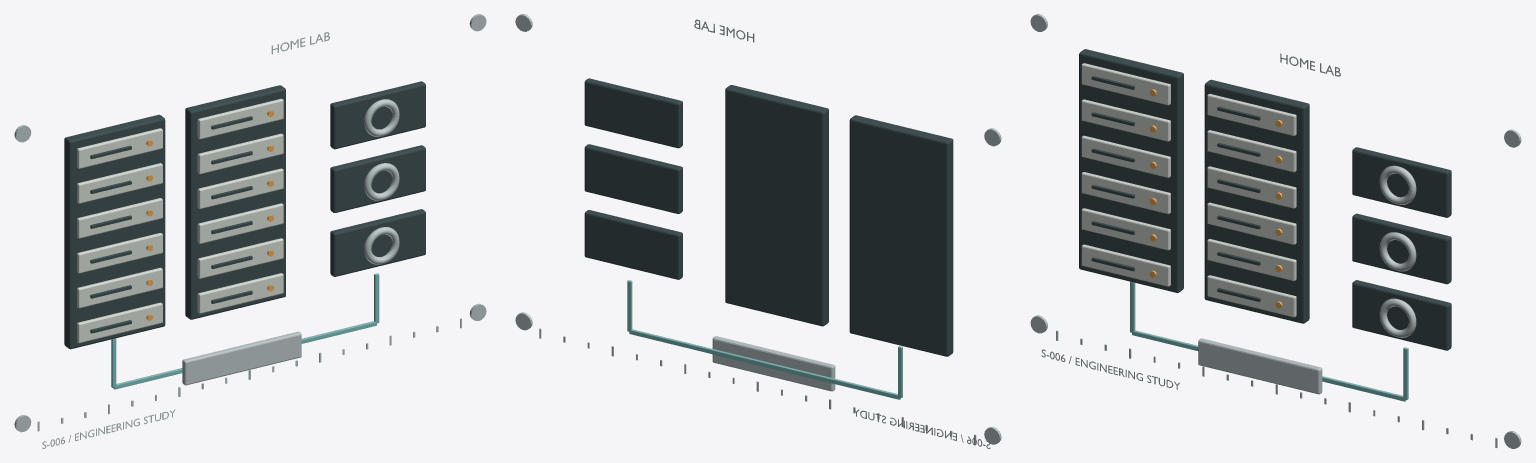
Rendered from home-lab.glb.
The picture shows the model from 3 angles, left to right: view 1: azimuth 30°, elevation 25°; view 2: azimuth 150°, elevation 25°; view 3: azimuth 330°, elevation 25°; orthographic projection. The views are drawn at different scales.
Parts seen in each view (by area): view 1: optical-core__Project_Graphite.015, optical-core__Project_Ceramic.015, optical-lenses__Project_Silver.017, optical-core__Project_Silver.011, optical-lenses__Project_Trace.014, optical-core__Project_Amber.016; view 2: optical-core__Project_Graphite.015, optical-core__Project_Silver.011, optical-lenses__Project_Silver.017, optical-lenses__Project_Trace.014; view 3: optical-core__Project_Graphite.015, optical-core__Project_Ceramic.015, optical-lenses__Project_Silver.017, optical-core__Project_Silver.011, optical-lenses__Project_Trace.014, optical-core__Project_Amber.016.
Part boxes in pixels (x1,y1,x2,y2): optical-core__Project_Graphite.015: (64,81,425,349); optical-core__Project_Ceramic.015: (77,98,283,343); optical-lenses__Project_Silver.017: (14,14,486,448); optical-core__Project_Silver.011: (182,331,301,385); optical-lenses__Project_Trace.014: (111,273,379,389); optical-core__Project_Amber.016: (146,110,273,320); optical-core__Project_Graphite.015: (584,78,953,356); optical-core__Project_Silver.011: (712,336,835,391); optical-lenses__Project_Silver.017: (515,14,1001,448); optical-lenses__Project_Trace.014: (627,280,902,399); optical-core__Project_Graphite.015: (1079,49,1451,350); optical-core__Project_Ceramic.015: (1081,63,1296,317); optical-lenses__Project_Silver.017: (1030,14,1521,448); optical-core__Project_Silver.011: (1198,338,1322,394); optical-lenses__Project_Trace.014: (1130,281,1408,401); optical-core__Project_Amber.016: (1149,89,1282,308).
Size of the model in its own units: 4.01 by 2.83 by 0.158.
